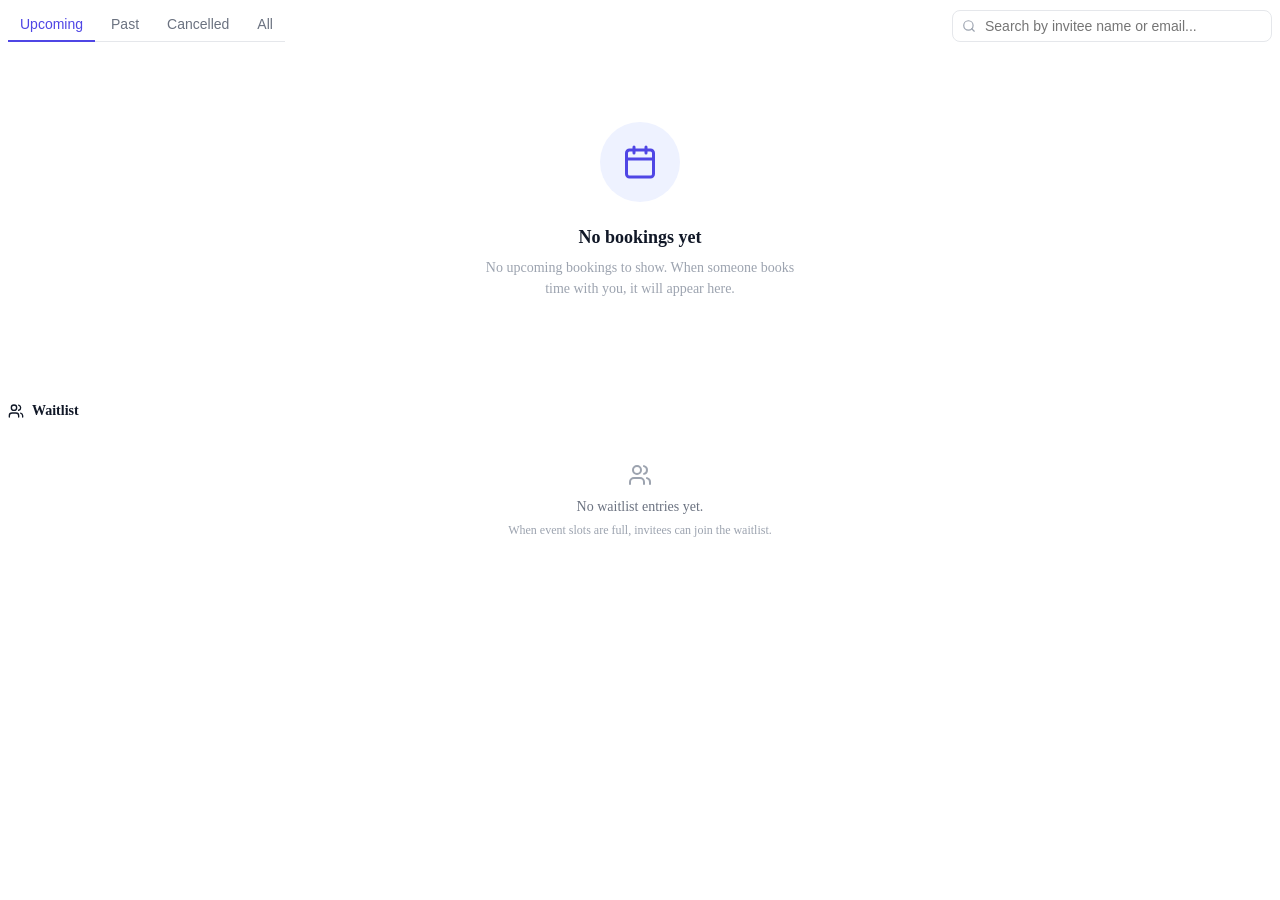
Scenario: BookingsPage › clears search when clear button is clicked
Click the button "All": (265, 25) [245,8,285,42]
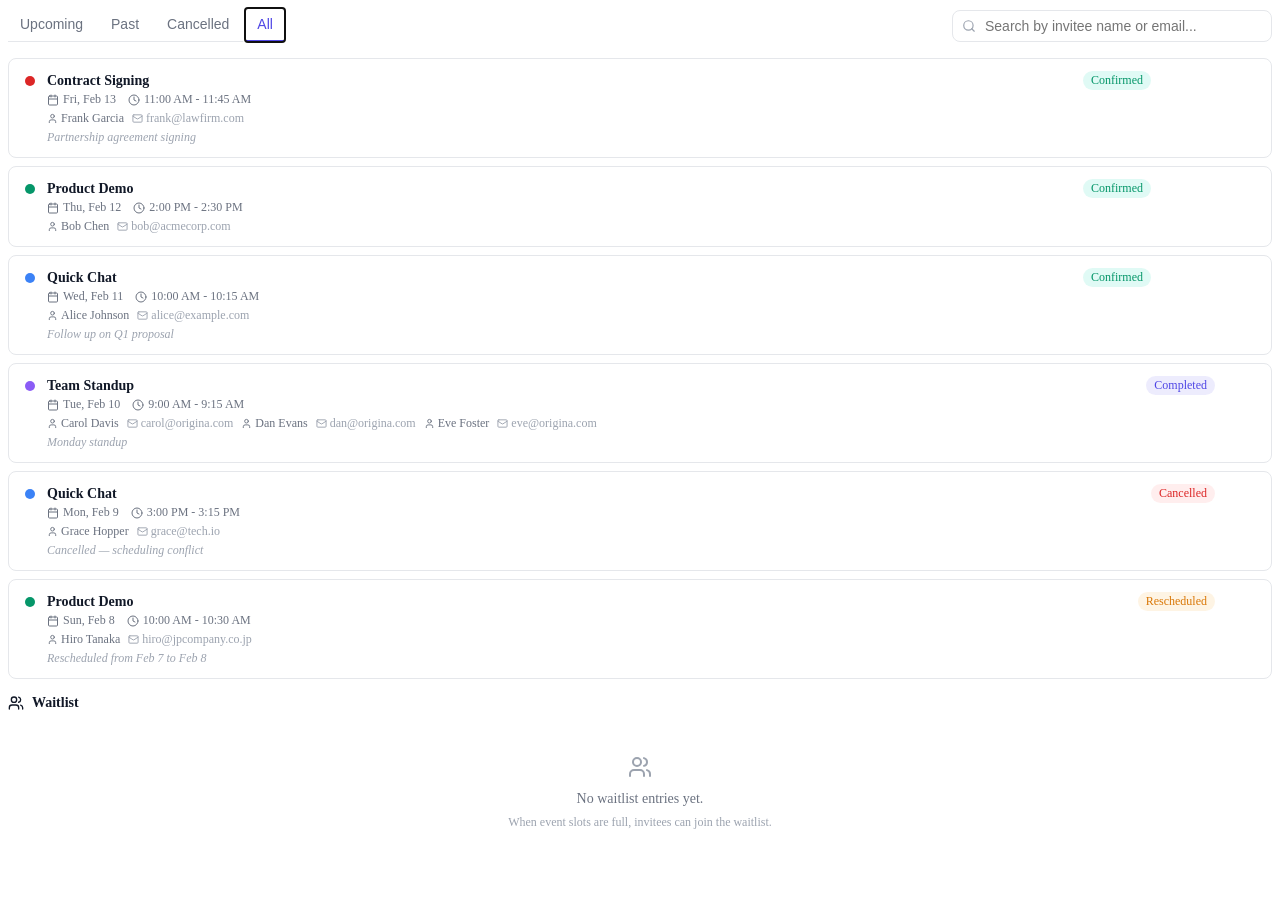
In the field named "Search bookings": (1112, 26) [952,10,1272,42], type "Alice"
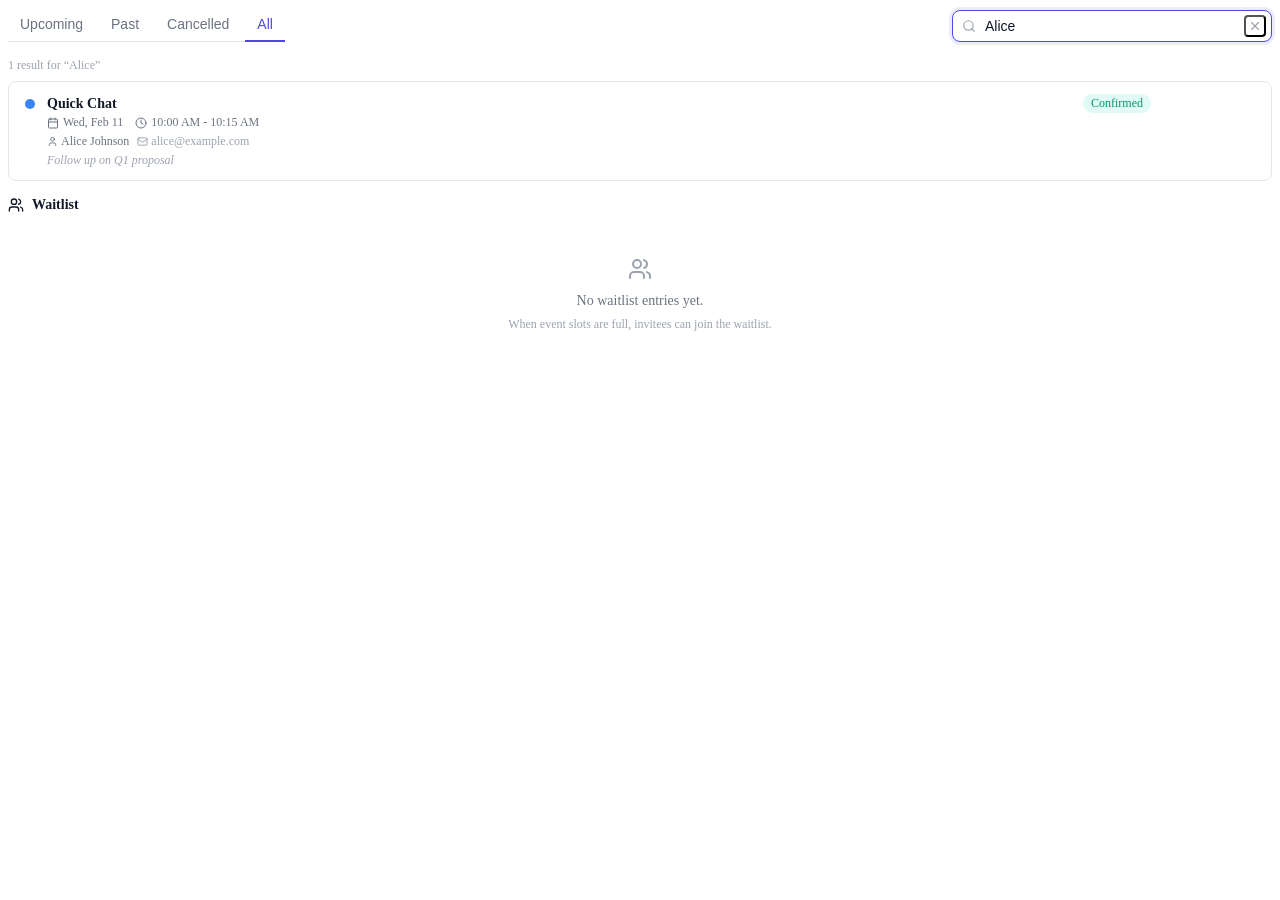
Expected: the button named "Clear search" is shown
Click the button named "Clear search": (1255, 26) [1244,15,1266,37]
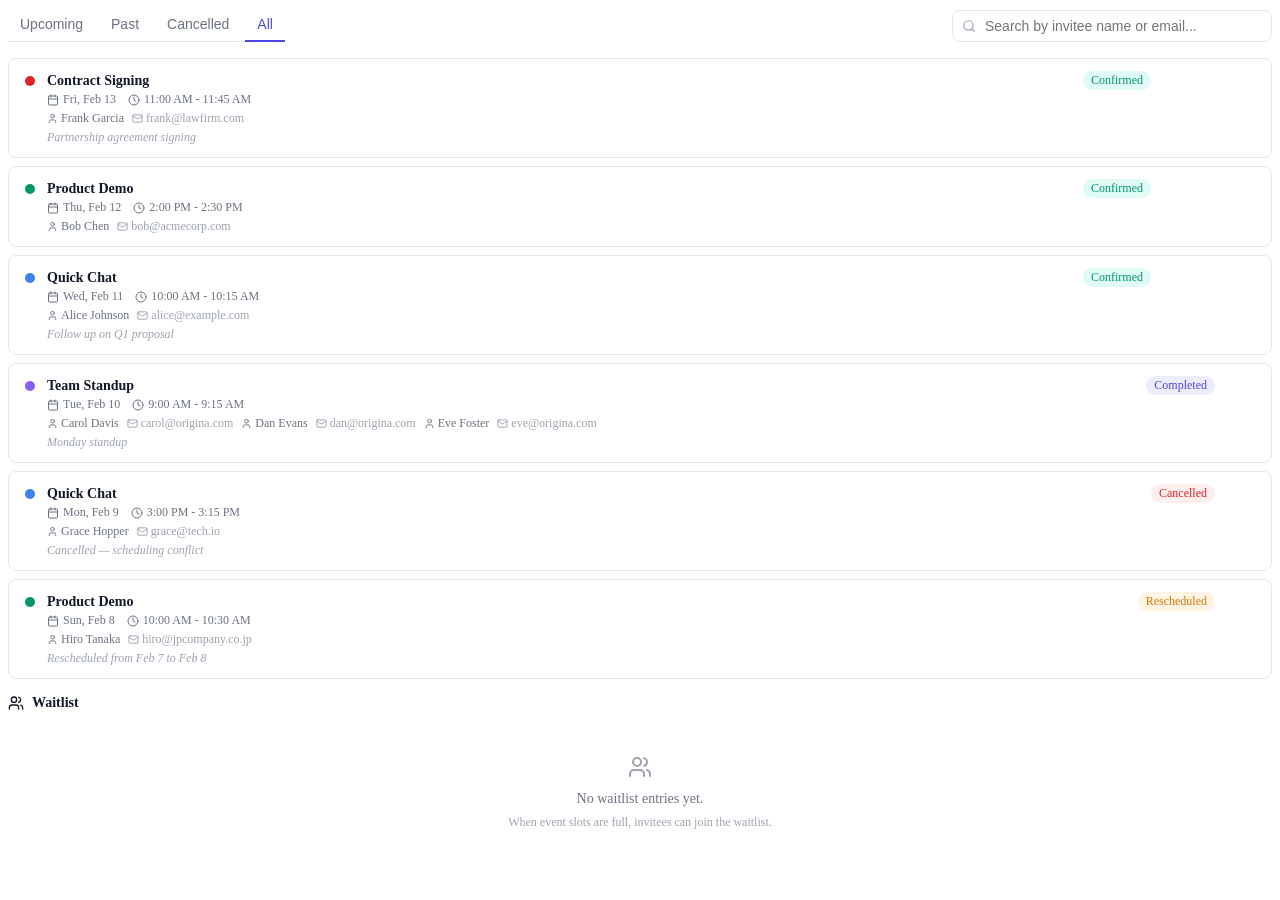
Expected: the field named "Search bookings" is empty, [952,10,1272,42]
